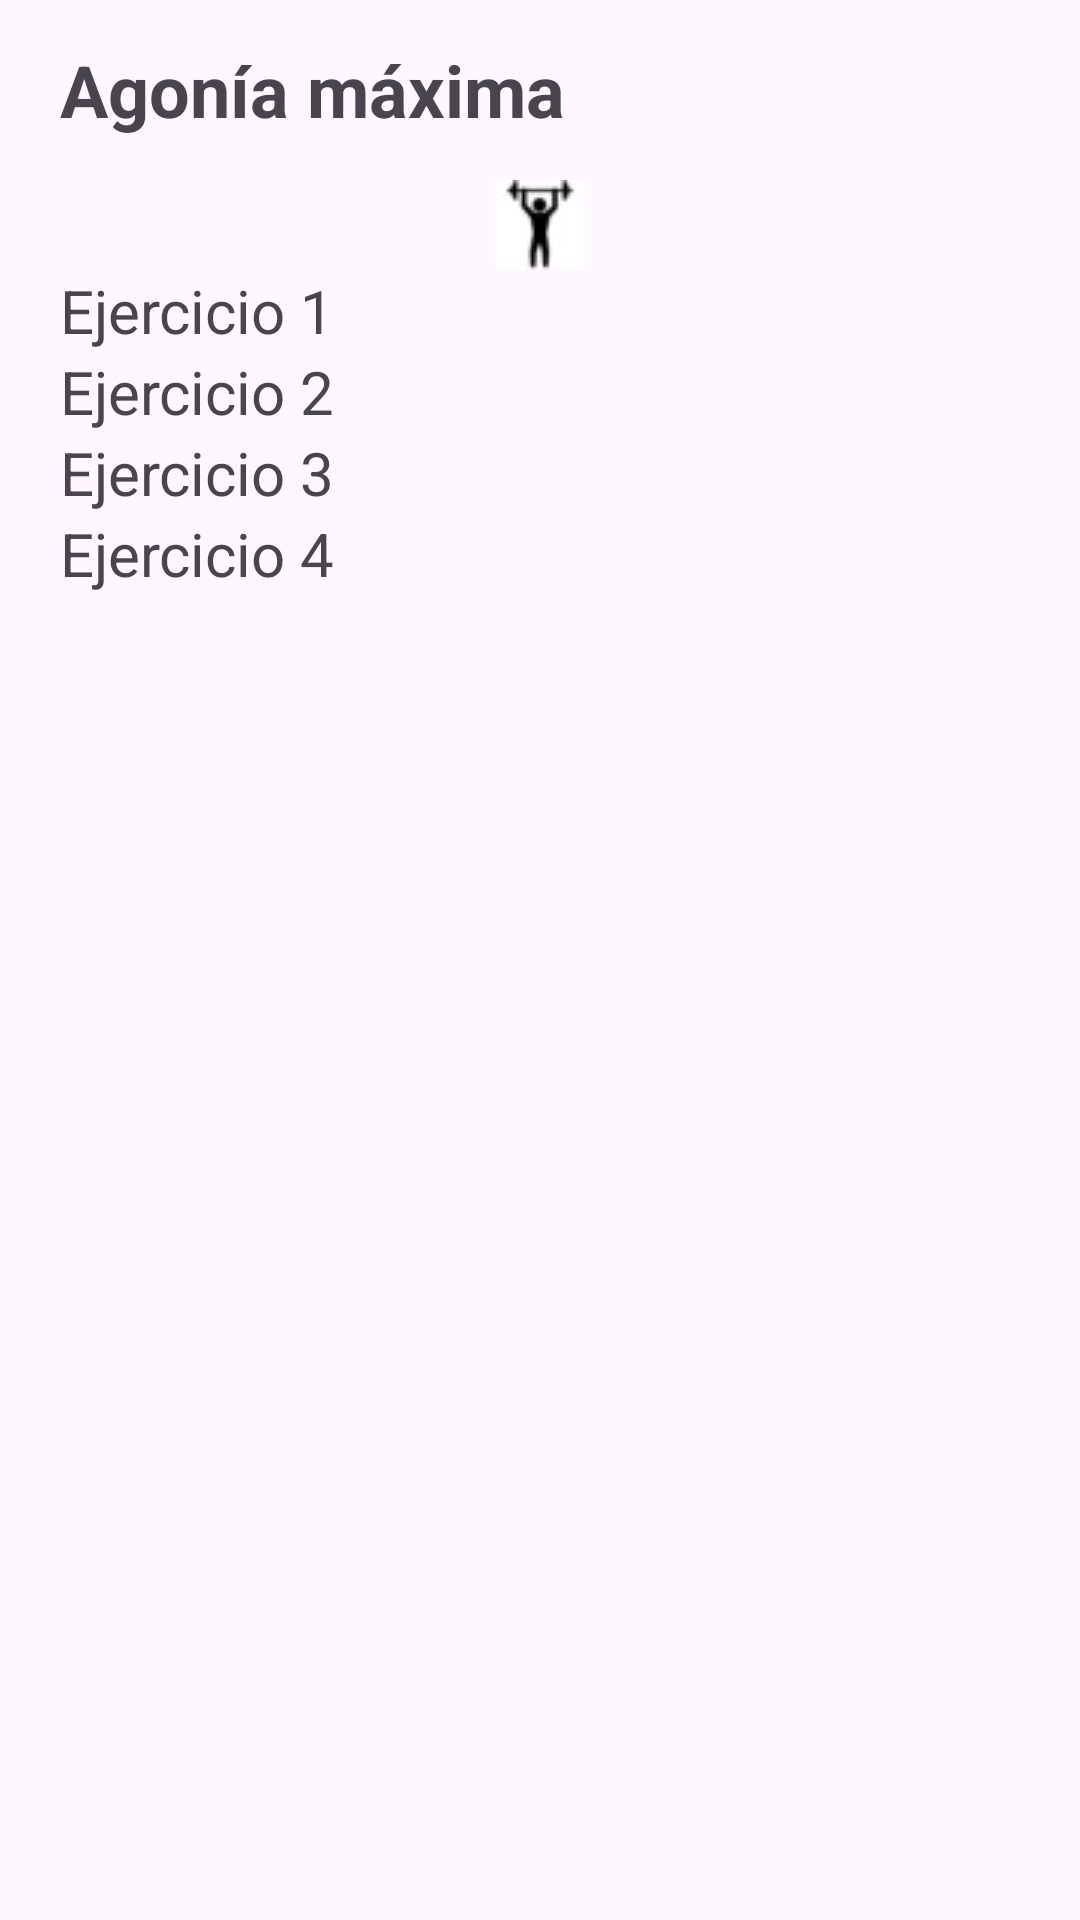

Icon click points for this 1080px x 1920px phone screenshot, format [x,y]:
weigh: [540,225]
